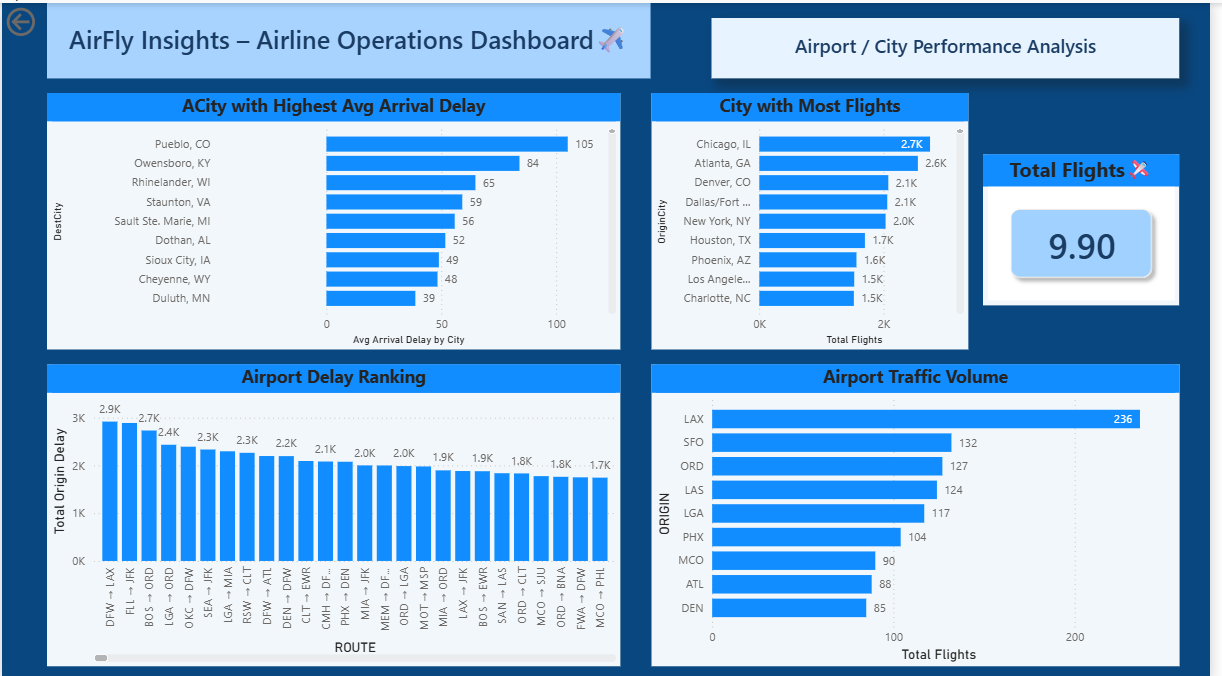

The dashboard page shown, as its layout file describes it:
{"tool":"powerbi","page":{"name":"Airport / City Performance Analysis","canvas":[1280,720],"ordinal":6},"visuals":[{"type":"textbox","box":[48,0,640,80],"z":0},{"type":"actionButton","box":[752,16,496,64],"z":1000},{"type":"actionButton","box":[0,0,100,40],"z":2000},{"type":"barChart","title":"Airport Traffic Volume","fields":{"Category":["data.ORIGIN"],"Y":["data.Total Flights"]},"box":[688,384,560,320],"z":3000},{"type":"barChart","title":"ACity with Highest Avg Arrival Delay","fields":{"Category":["data.DestCity"],"Y":["data.Avg Arrival Delay by City"]},"box":[48,96,608,272],"z":4000},{"type":"cardVisual","title":"Total Flights🛩️ ","fields":{"Data":["data.Avg Delay per Airline"]},"box":[1040,160,208,160],"z":5000},{"type":"clusteredColumnChart","title":"Airport Delay Ranking","fields":{"Category":["data.ROUTE"],"Y":["data.Total Origin Delay"]},"box":[48,384,608,320],"z":6000},{"type":"barChart","title":"City with Most Flights","fields":{"Y":["data.Total Flights"],"Category":["data.OriginCity"]},"box":[688,96,336,272],"z":7000}]}

Visuals, with their boxes in screenshot pixels (x1, y1, x2, y2), scaled from the page's 1280x720 canvas onto the 1222x676 screenshot:
textbox: <region>46, 0, 657, 75</region>
actionButton: <region>718, 15, 1191, 75</region>
actionButton: <region>0, 0, 95, 38</region>
"Airport Traffic Volume" barChart: <region>657, 361, 1191, 661</region>
"ACity with Highest Avg Arrival Delay" barChart: <region>46, 90, 626, 346</region>
"Total Flights🛩️ " cardVisual: <region>993, 150, 1191, 300</region>
"Airport Delay Ranking" clusteredColumnChart: <region>46, 361, 626, 661</region>
"City with Most Flights" barChart: <region>657, 90, 978, 346</region>
